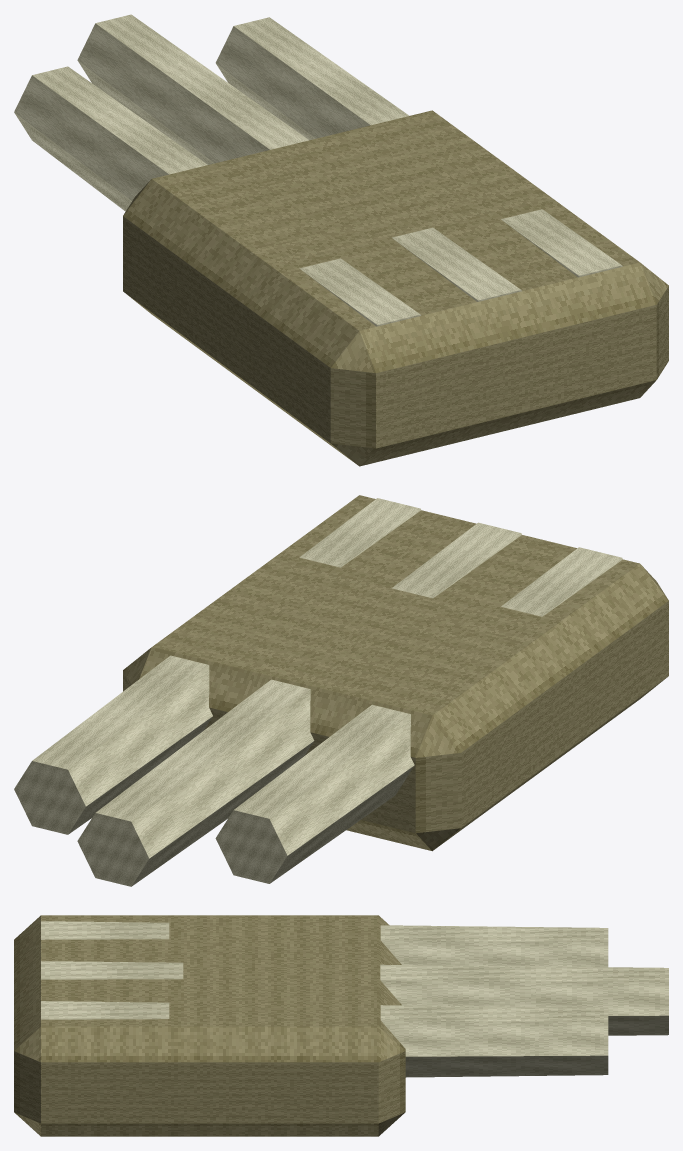
Rendered from blender_chalk_sigil_kit_1.glb.
The picture shows the model from 3 angles, top to bottom: view 1: azimuth 30°, elevation 25°; view 2: azimuth 150°, elevation 25°; view 3: azimuth 270°, elevation 25°; orthographic projection. The views are drawn at different scales.
Parts seen in each view (by area): view 1: blender_chalk_sigil_kit_1; view 2: blender_chalk_sigil_kit_1; view 3: blender_chalk_sigil_kit_1.
Boxes of the visible parts, bbox=[...] form: blender_chalk_sigil_kit_1: bbox=[14, 14, 668, 466]; blender_chalk_sigil_kit_1: bbox=[14, 495, 668, 886]; blender_chalk_sigil_kit_1: bbox=[14, 915, 668, 1136].
Size of the model in its own units: 0.047 by 0.0182 by 0.097.
2 materials, 2 textured.
